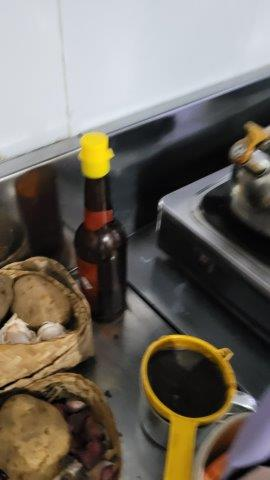botolkaca: (71, 133, 131, 325)
